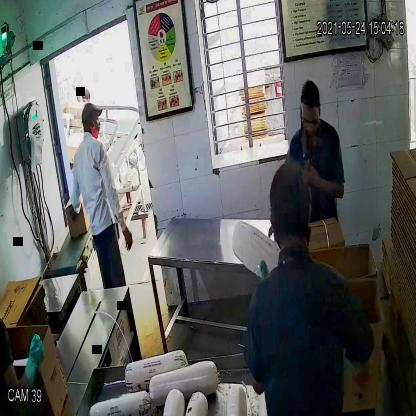goggles: (299, 110, 323, 131)
